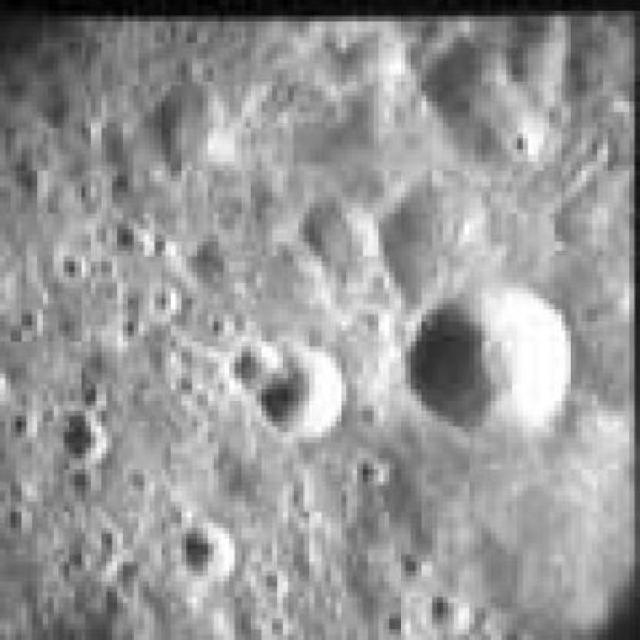crater: (397, 289, 572, 448), (232, 342, 343, 430), (181, 523, 234, 575)
